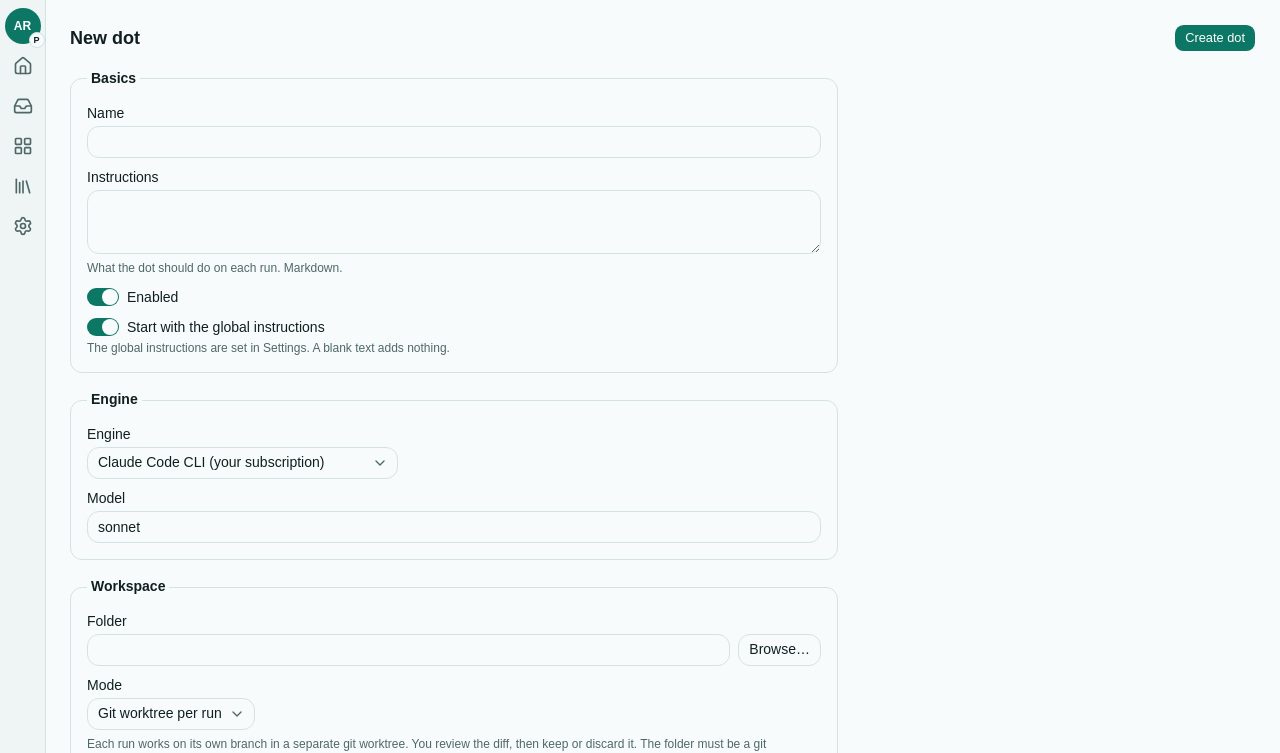
Scenario: the dot editor, new dot › marks what is missing instead of saving, and only after a save was tried
expect the field labelled "Name" is shown: met, box 87,126 -> 821,158
expect the text "Say what the dot should do." is not shown: met
Step 1. Click the button "Create dot" → click(1215, 38), box 1174,24 -> 1256,52
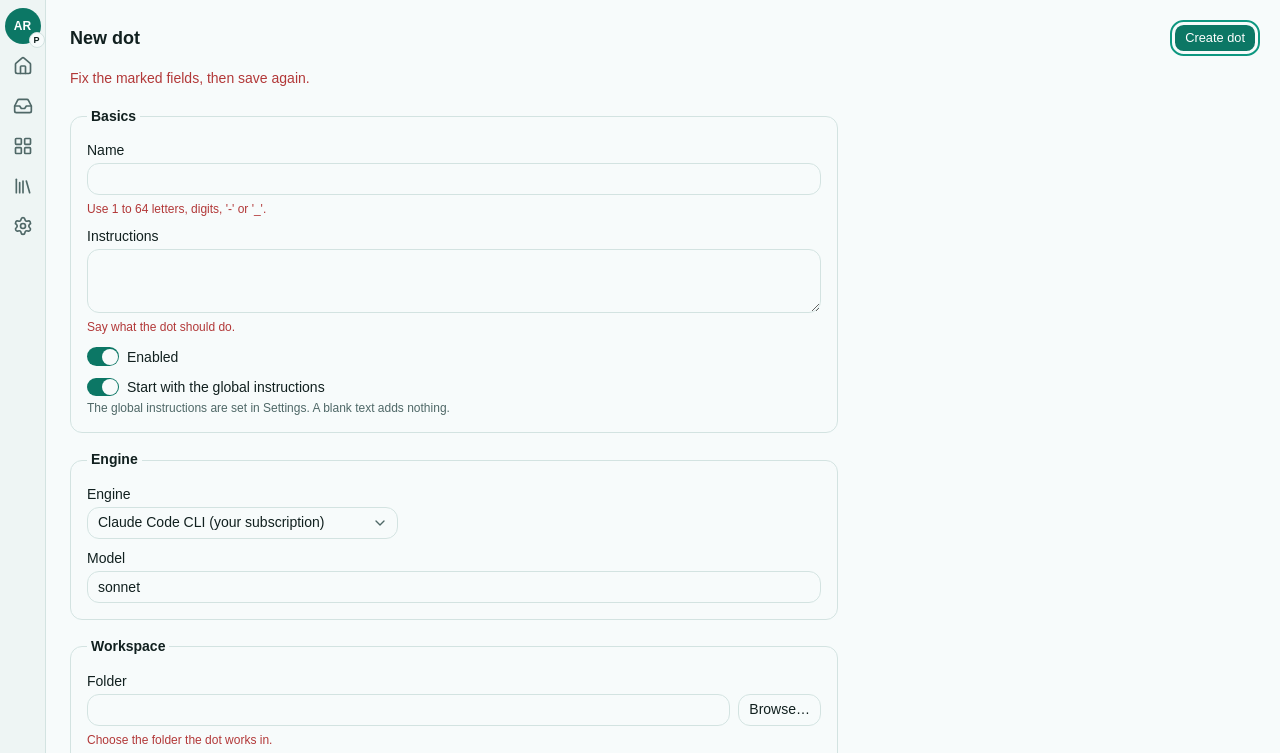
expect the message shows "Fix the marked fields": met, box 70,70 -> 310,86
expect the text "Use 1 to 64 letters, digits, '-' or '_'." is shown: met, box 87,202 -> 266,216
expect the text "Say what the dot should do." is shown: met, box 87,320 -> 235,334
The marks follow the typing.
Step 2. Type "nightly" into the field labelled "Name" → (454, 179), box 87,163 -> 821,195
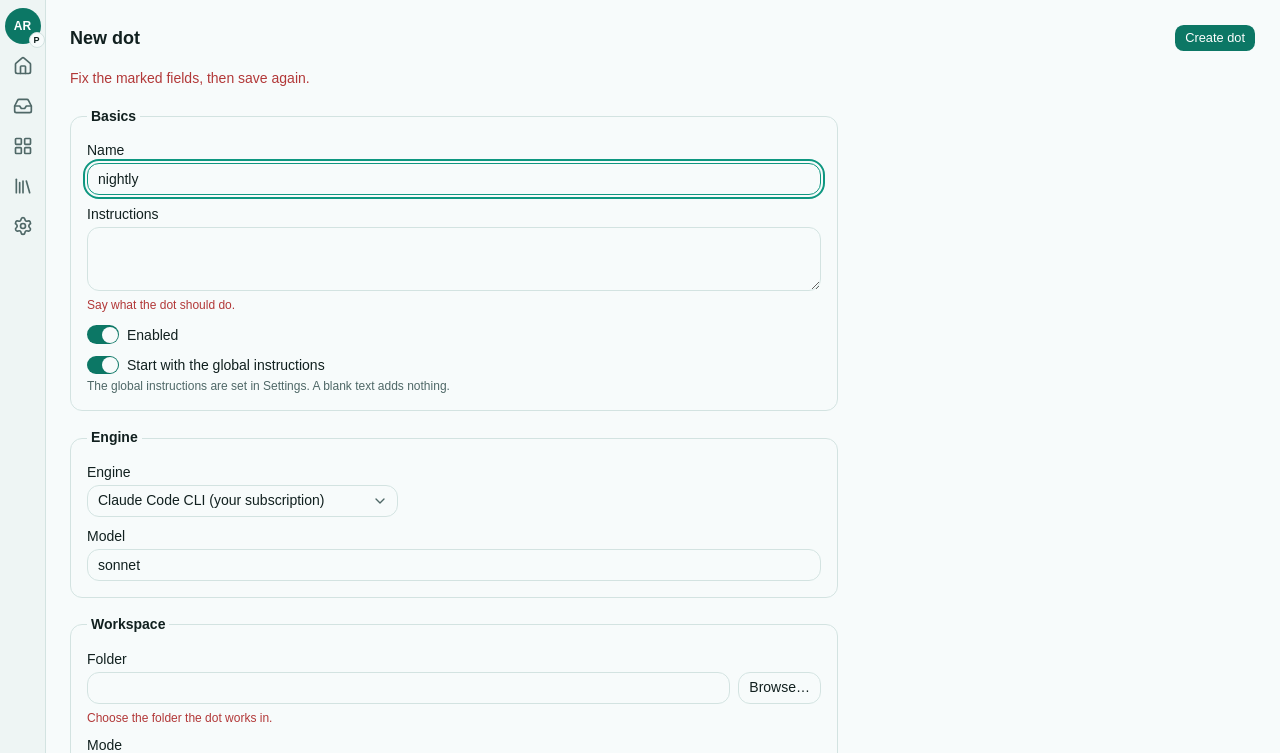
expect the text "Use 1 to 64 letters, digits, '-' or '_'." is gone: met
